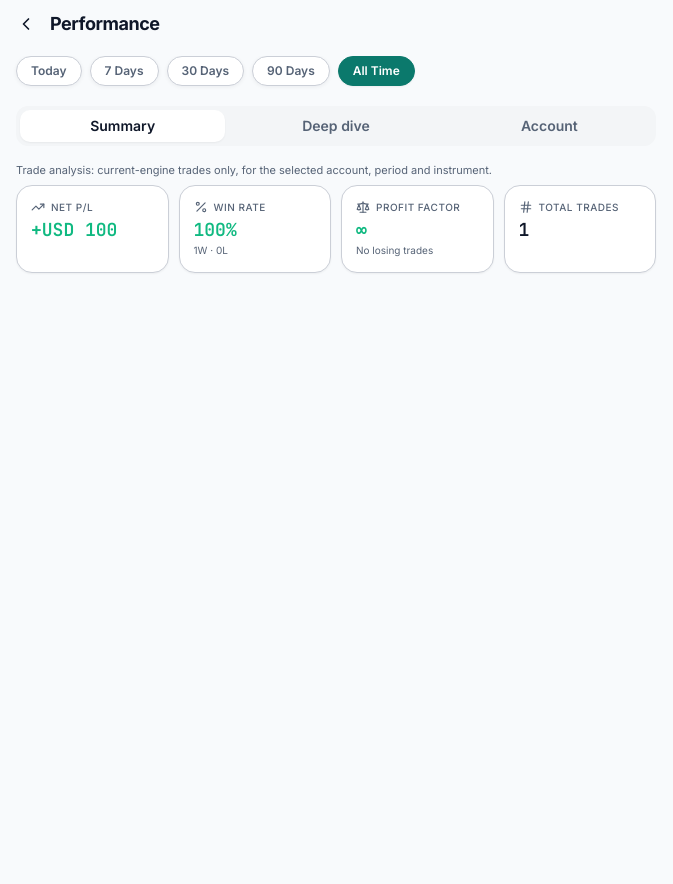
Test case: JournalStats — Phase 7 breakdowns & safety › shows a balanced reconciliation panel for a clean account
The width and height of the screenshot is (673, 884).
Click the button "Account": (549, 126) [447,110,652,142]
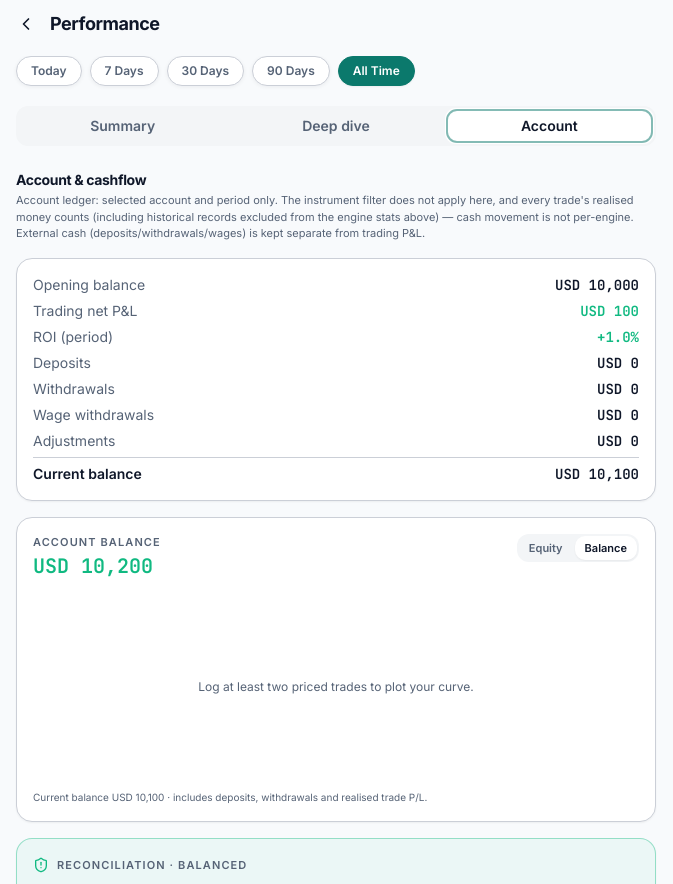
Check: the text "Reconciliation · balanced" is shown, box [57,855,247,875]
Check: the heading "Account & cashflow" is shown, box [16,171,146,188]
